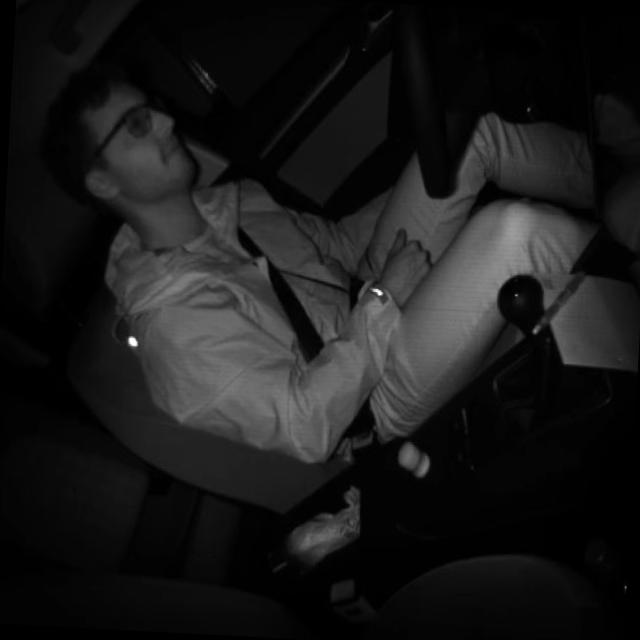pen: (530, 262, 590, 339)
